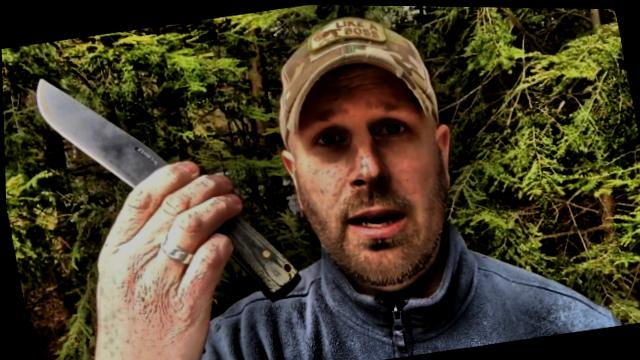knife: (24, 44, 249, 259)
